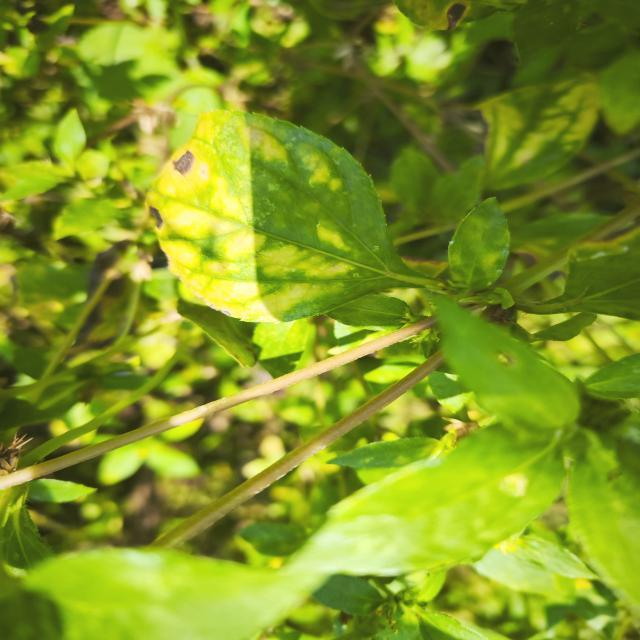Virus Kuning: (143, 106, 414, 324)
